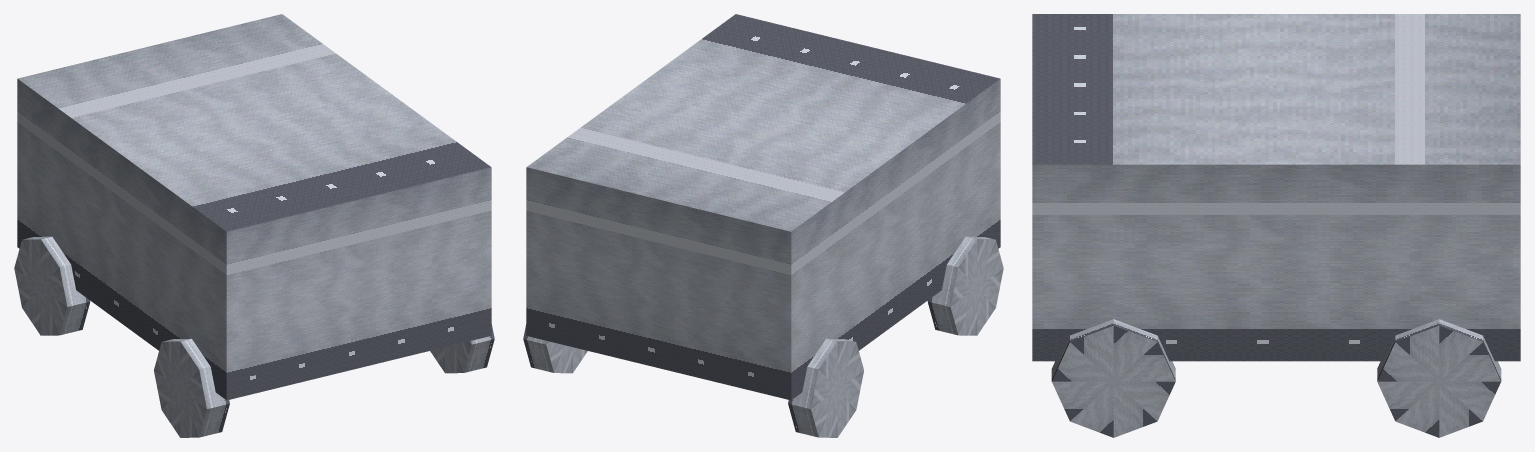
Rendered from mina_vagoneta.glb.
The picture shows the model from 3 angles, left to right: view 1: azimuth 30°, elevation 25°; view 2: azimuth 150°, elevation 25°; view 3: azimuth 270°, elevation 25°; orthographic projection. The views are drawn at different scales.
Parts seen in each view (by area): view 1: mina_vagoneta; view 2: mina_vagoneta; view 3: mina_vagoneta.
Part boxes in pixels (x1,y1,x2,y2): mina_vagoneta: (14,14,494,437); mina_vagoneta: (523,14,1003,437); mina_vagoneta: (1032,14,1520,437).
Bounding box in the file's own units: 1 × 0.76 × 1.26.
Materials: 1 (1 with a texture image).
